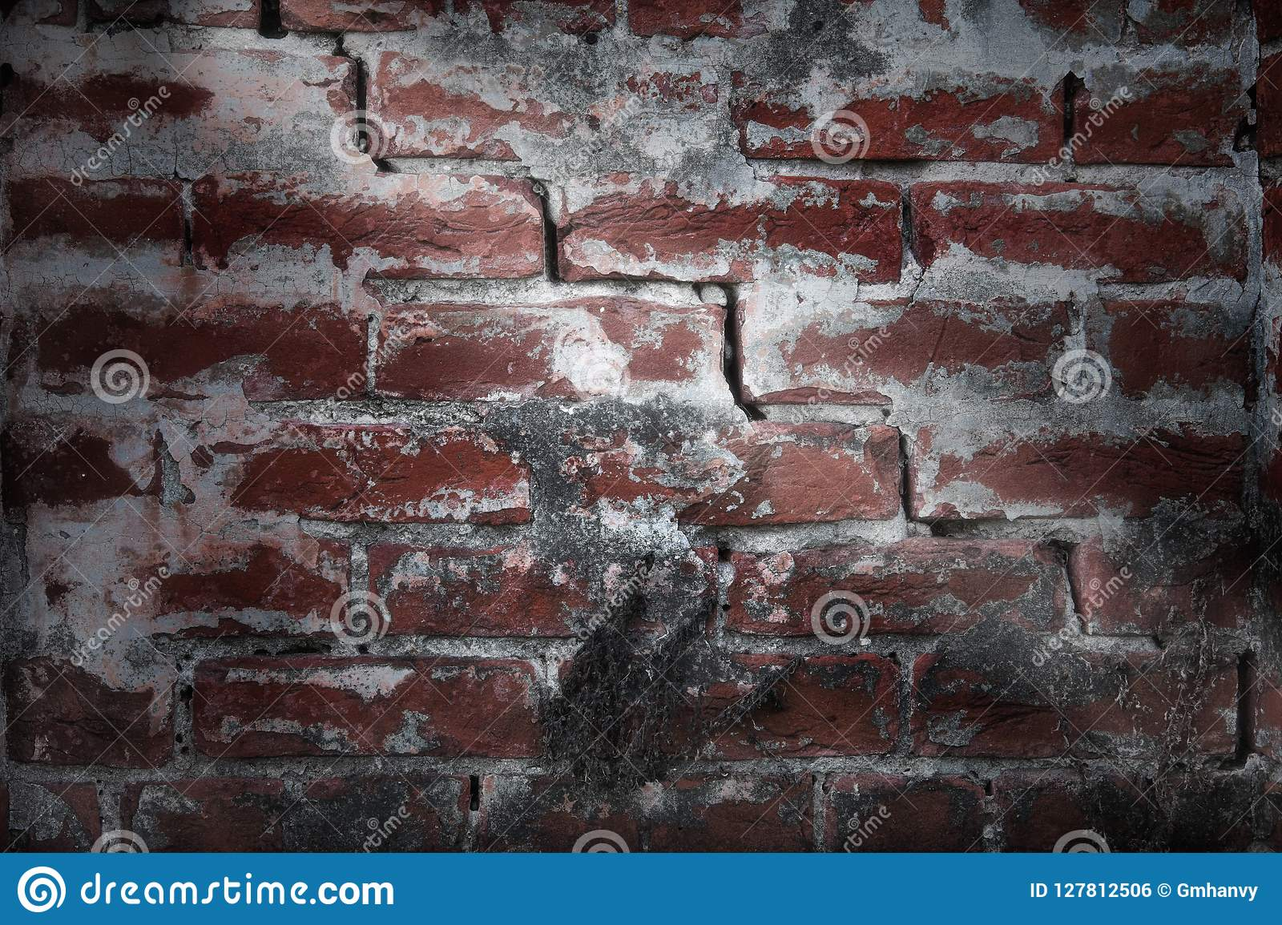stairstep_crack: (253, 0, 1264, 781)
